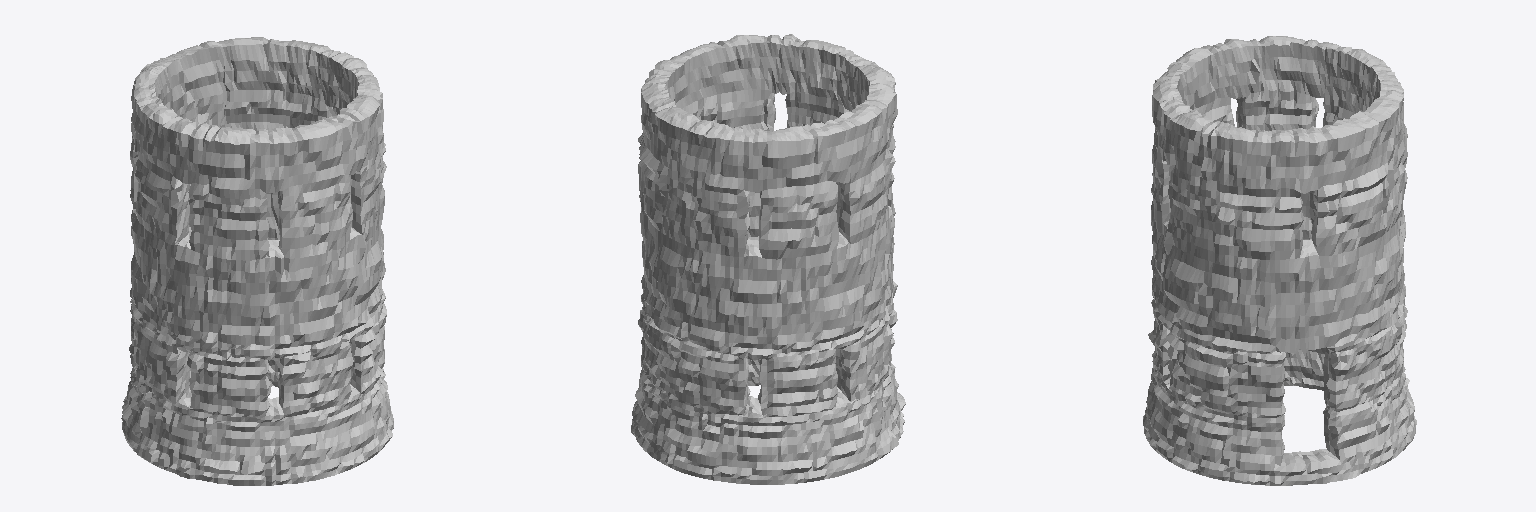
The model's file is old tower 3.obj.
The picture shows the model from 3 angles: view 1: azimuth 30°, elevation 25°; view 2: azimuth 150°, elevation 25°; view 3: azimuth 270°, elevation 25°; orthographic projection.
Parts seen in each view (by area): view 1: pack_oldtowers; view 2: pack_oldtowers; view 3: pack_oldtowers.
Part boxes in pixels (left/top/right/bottom): pack_oldtowers: left=121, top=37, right=393, bottom=485; pack_oldtowers: left=631, top=34, right=905, bottom=484; pack_oldtowers: left=1143, top=36, right=1416, bottom=485.
Bounding box in the file's own units: 45.71 × 63.06 × 45.19.